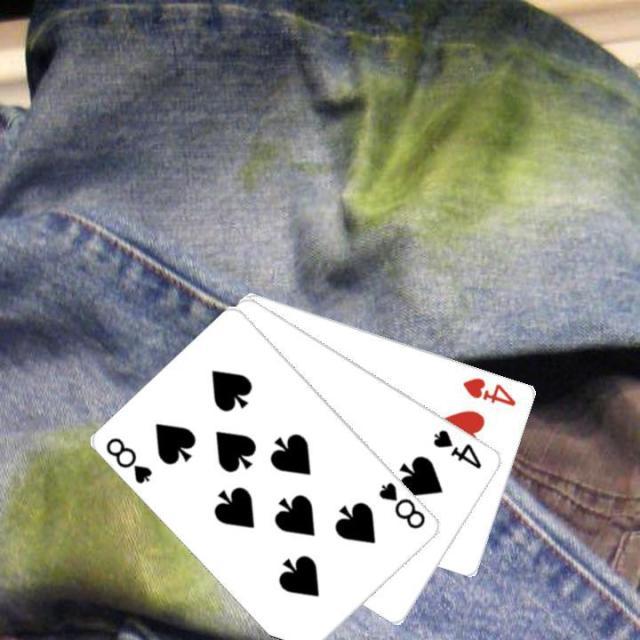4H: (459, 373, 518, 408)
4S: (429, 425, 484, 470)
8S: (375, 477, 428, 531), (102, 433, 156, 486)
